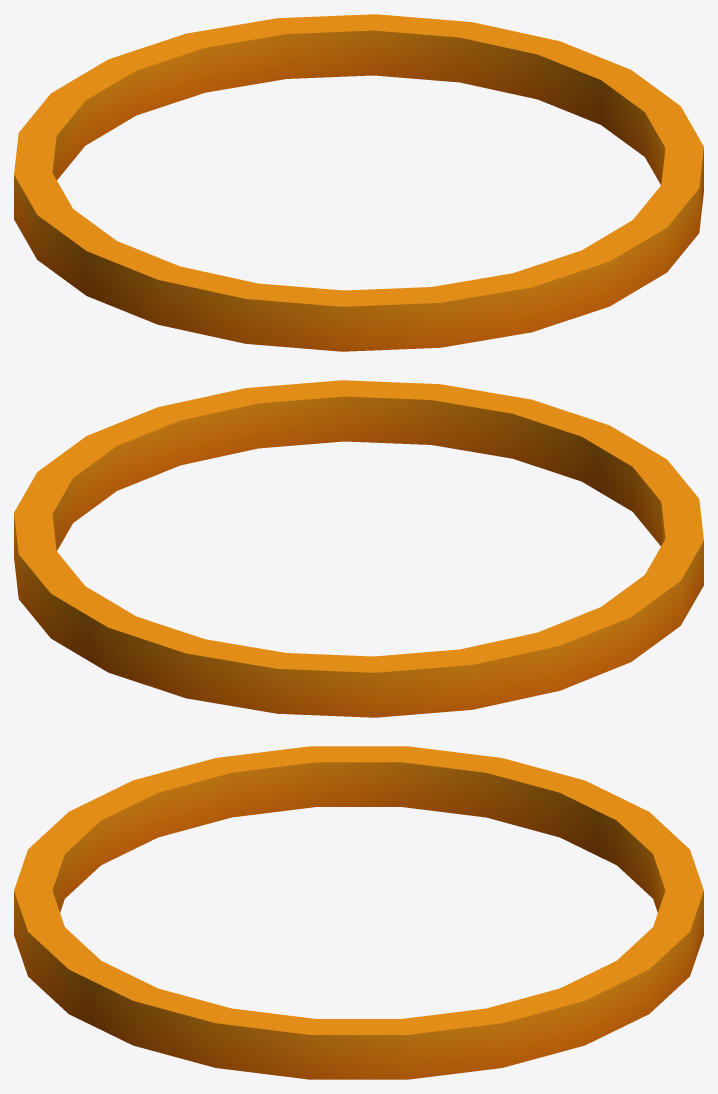
File: Selection_Pointer_01.glb
3 renders of one model, top to bottom at view 1: azimuth 30°, elevation 25°; view 2: azimuth 150°, elevation 25°; view 3: azimuth 270°, elevation 25°, orthographic.
Parts seen in each view (by area): view 1: Selection_Pointer_01; view 2: Selection_Pointer_01; view 3: Selection_Pointer_01.
Part boxes in pixels (x1,y1,x2,y2): Selection_Pointer_01: (14, 14, 703, 351); Selection_Pointer_01: (14, 380, 703, 717); Selection_Pointer_01: (14, 746, 703, 1079).
Bounding box in the file's own units: 1.08 × 0.0784 × 1.1.
1 material, 1 textured.
